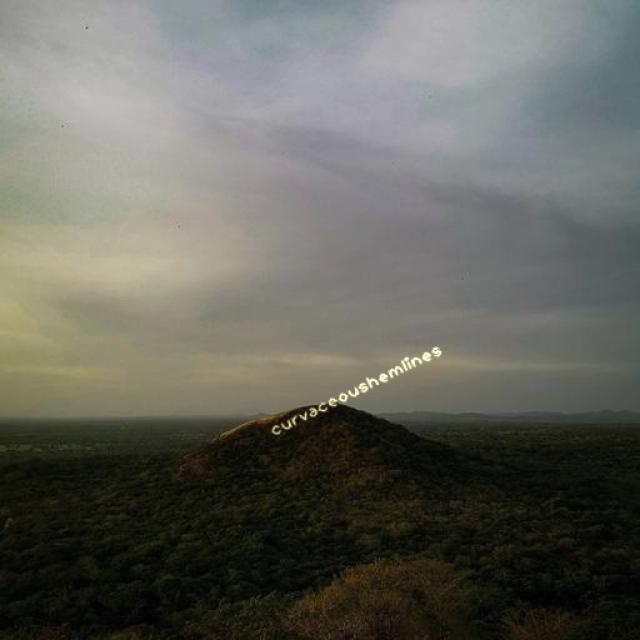watermark: (268, 341, 442, 438)
